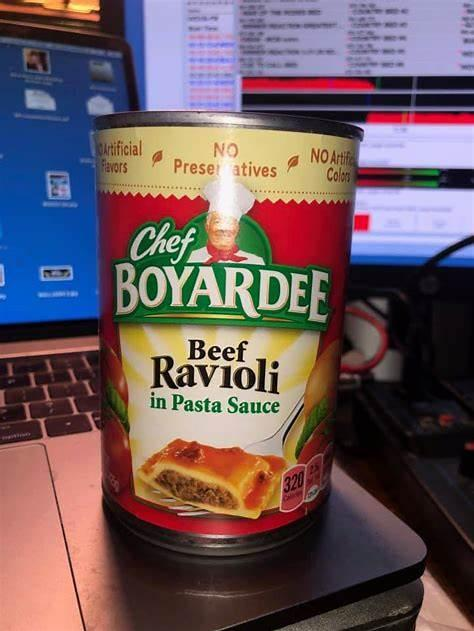metal: (94, 111, 363, 556)
